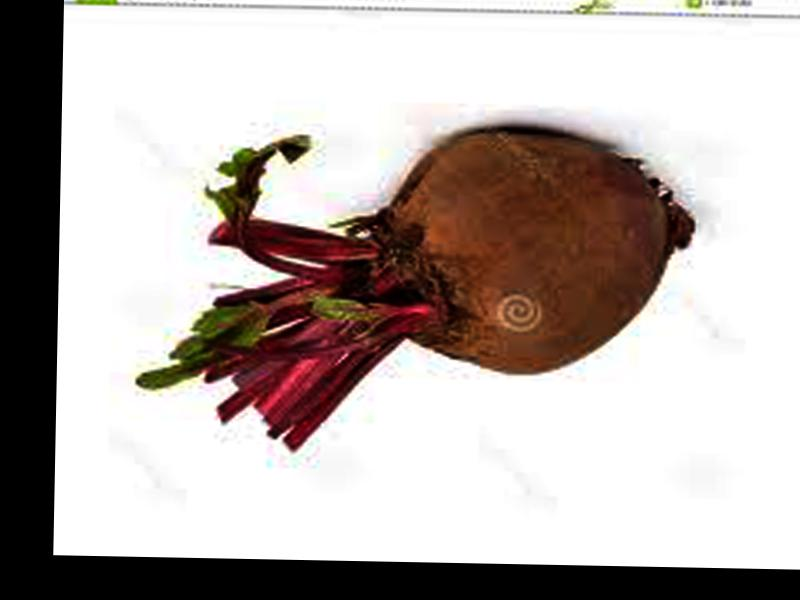Beet: (138, 125, 696, 455)
